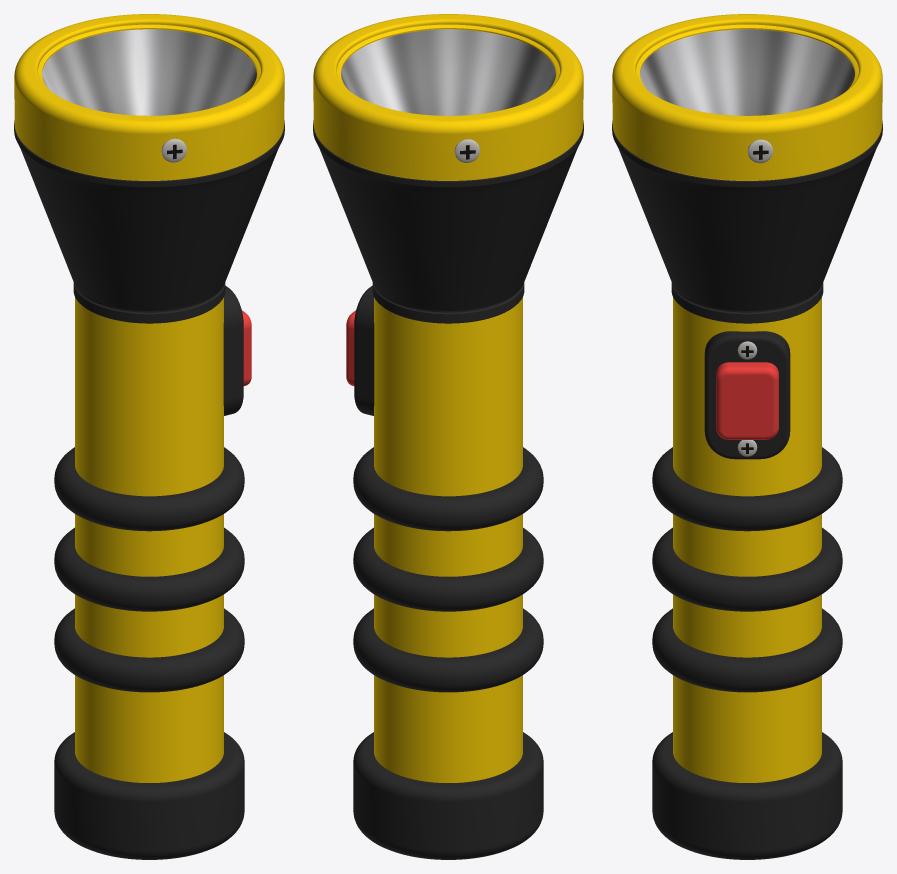
File: Linterna.glb
3 views of the same model, side by side, from view 1: azimuth 30°, elevation 25°; view 2: azimuth 150°, elevation 25°; view 3: azimuth 270°, elevation 25° (orthographic).
Parts seen in each view (by area): view 1: Cuerpo_Linterna, Soporte_Linterna1, Disco_Linterna, Soporte_Linterna2, Reflector_Linterna, Arco_Linterna2, Arco_Linterna1, Arco_Linterna3, Placa_Interruptor, Interruptor_Linterna1; view 2: Cuerpo_Linterna, Soporte_Linterna1, Disco_Linterna, Soporte_Linterna2, Reflector_Linterna, Arco_Linterna2, Arco_Linterna1, Arco_Linterna3, Placa_Interruptor, Interruptor_Linterna1; view 3: Cuerpo_Linterna, Soporte_Linterna1, Disco_Linterna, Soporte_Linterna2, Reflector_Linterna, Arco_Linterna2, Arco_Linterna1, Arco_Linterna3, Placa_Interruptor, Interruptor_Linterna1.
Part boxes in pixels (<box>): Cuerpo_Linterna: <box>75,297,223,782</box>; Soporte_Linterna1: <box>14,120,284,323</box>; Disco_Linterna: <box>14,14,284,180</box>; Soporte_Linterna2: <box>54,732,244,859</box>; Reflector_Linterna: <box>42,29,256,115</box>; Arco_Linterna2: <box>54,527,244,611</box>; Arco_Linterna1: <box>54,608,244,692</box>; Arco_Linterna3: <box>54,447,244,531</box>; Placa_Interruptor: <box>223,285,243,415</box>; Interruptor_Linterna1: <box>242,310,251,385</box>; Cuerpo_Linterna: <box>374,297,522,782</box>; Soporte_Linterna1: <box>313,120,583,323</box>; Disco_Linterna: <box>313,14,583,180</box>; Soporte_Linterna2: <box>353,732,543,859</box>; Reflector_Linterna: <box>341,29,555,115</box>; Arco_Linterna2: <box>353,527,543,611</box>; Arco_Linterna1: <box>353,608,543,692</box>; Arco_Linterna3: <box>353,447,543,531</box>; Placa_Interruptor: <box>354,285,374,415</box>; Interruptor_Linterna1: <box>346,310,355,385</box>; Cuerpo_Linterna: <box>673,297,821,782</box>; Soporte_Linterna1: <box>612,121,882,323</box>; Disco_Linterna: <box>612,14,882,180</box>; Soporte_Linterna2: <box>652,732,842,859</box>; Reflector_Linterna: <box>640,29,854,115</box>; Arco_Linterna2: <box>652,527,842,611</box>; Arco_Linterna1: <box>652,608,842,692</box>; Arco_Linterna3: <box>652,447,842,531</box>; Placa_Interruptor: <box>704,331,790,459</box>; Interruptor_Linterna1: <box>716,362,778,439</box>.
Size of the model in its own units: 0.0733 by 0.2231 by 0.0723.
Materials: 8 (1 with a texture image).
